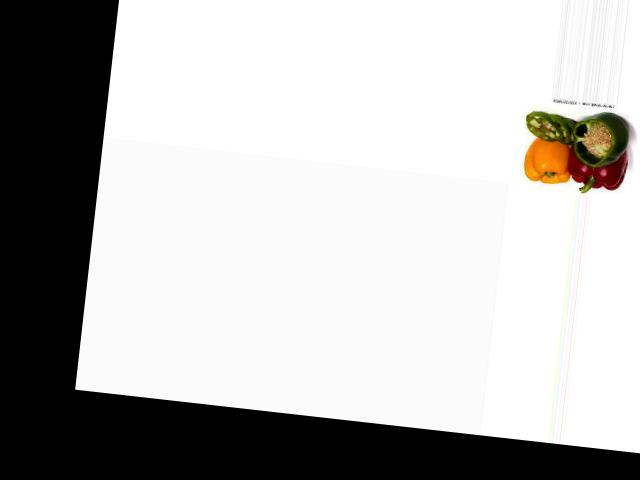bell_pepper: (568, 113, 636, 172)
